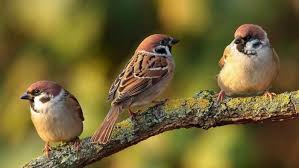hsparrow: (89, 32, 184, 146), (206, 20, 281, 110), (20, 79, 85, 154)
